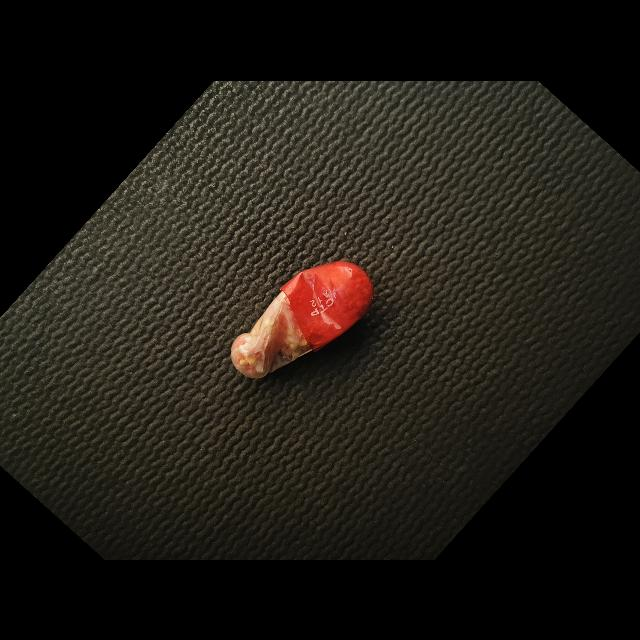Defective Capsule: (231, 261, 374, 378)
